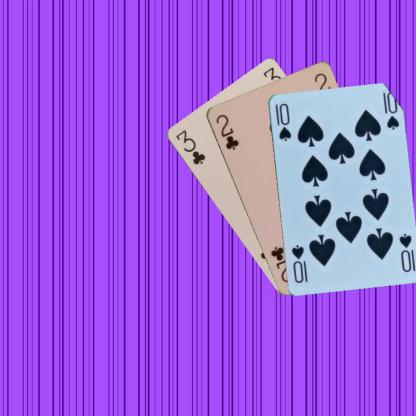10s: (272, 101, 292, 142), (396, 230, 413, 274)
2c: (212, 112, 240, 152)
3c: (173, 127, 207, 166)
